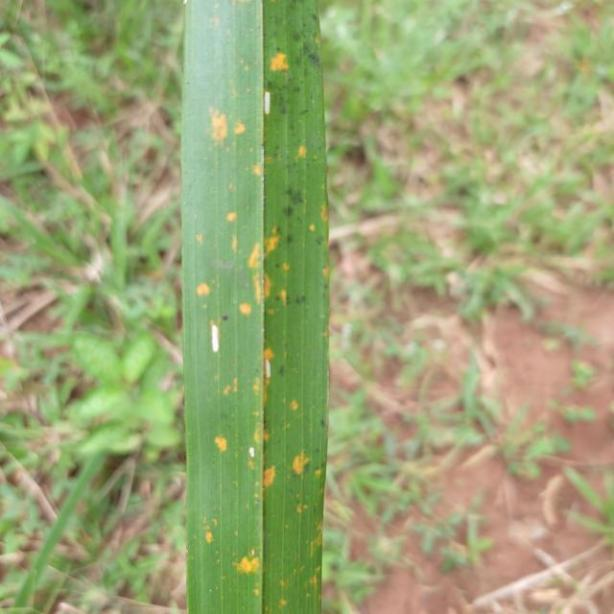Kalium: (178, 0, 330, 614)
